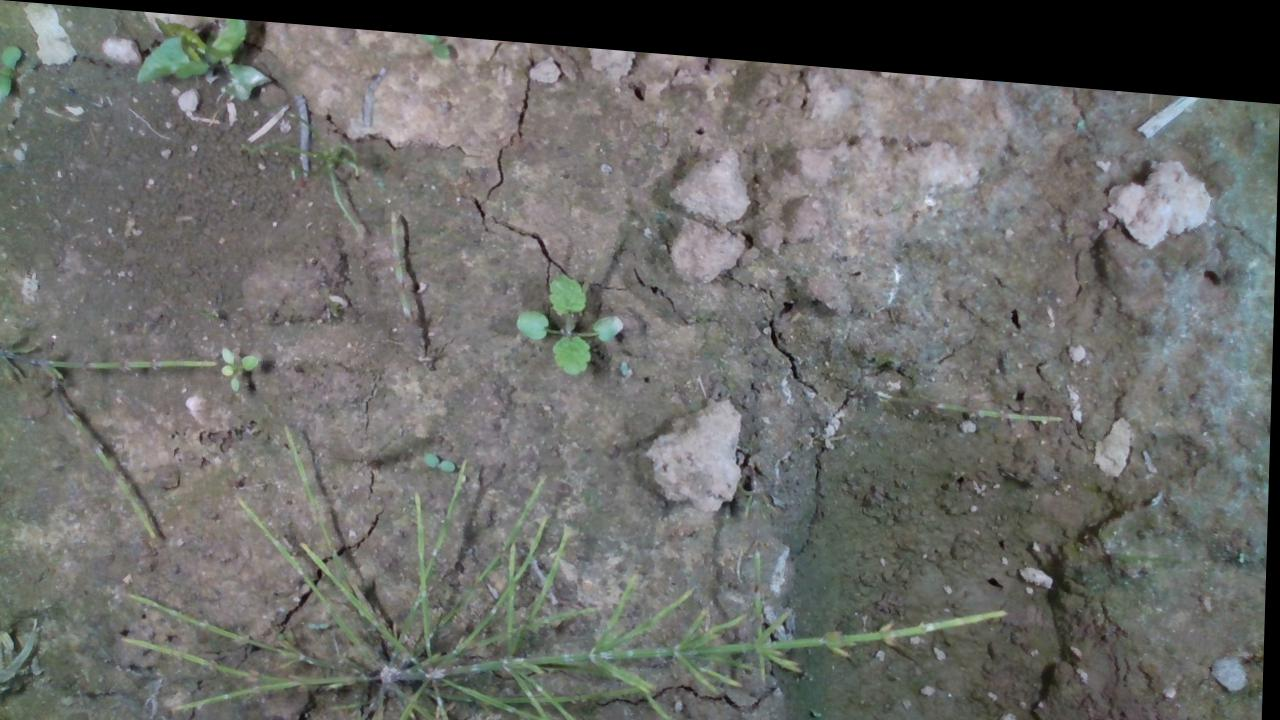weed: (516, 265, 628, 368), (218, 342, 261, 388), (423, 443, 458, 464)
